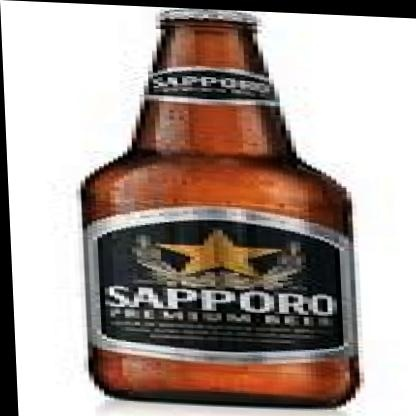trash: (82, 10, 358, 405)
